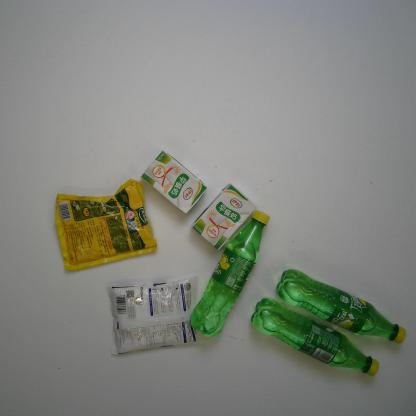Drink: (250, 296, 380, 377), (190, 209, 270, 339), (275, 268, 408, 345)
Milk: (191, 181, 258, 251), (140, 150, 209, 214)
Seasoner: (54, 177, 159, 272), (104, 273, 206, 357)
